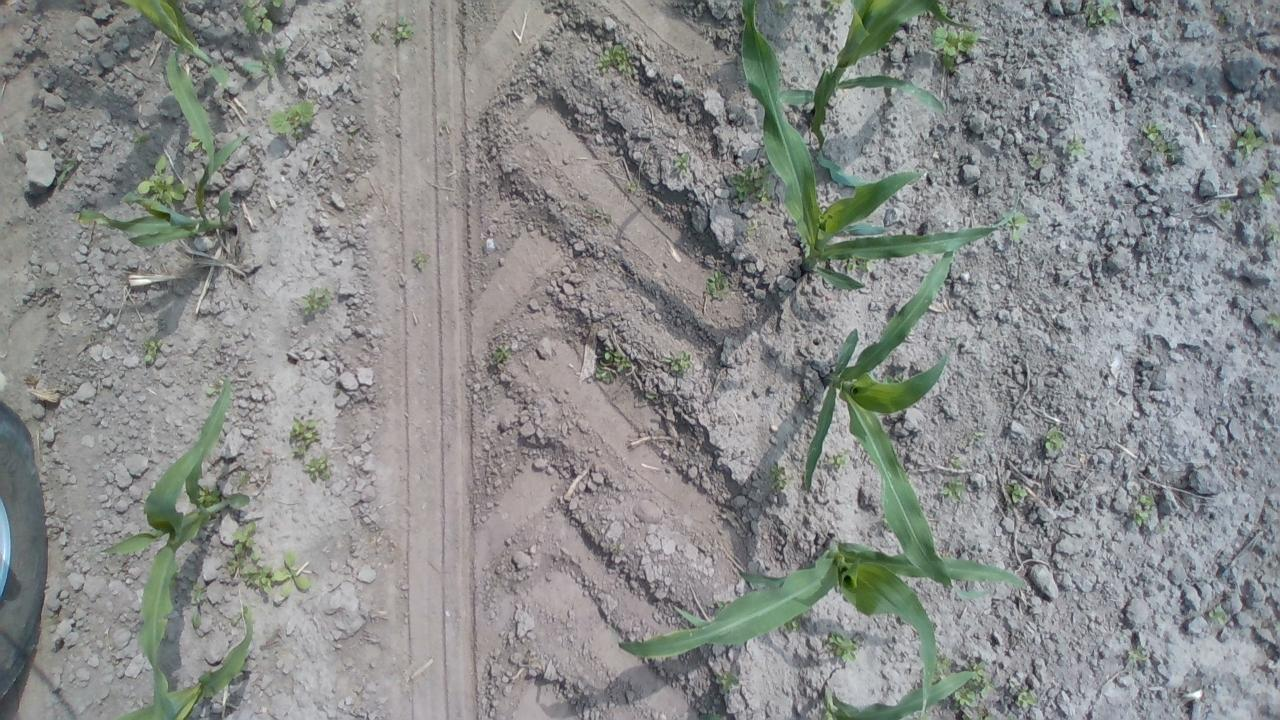Maize: (741, 0, 1022, 293), (614, 530, 1029, 719), (804, 244, 994, 598), (96, 378, 250, 720), (782, 0, 979, 188), (72, 132, 252, 248), (122, 0, 234, 185), (104, 608, 254, 720), (824, 659, 990, 720), (699, 714, 720, 720)
Weeds: (224, 517, 272, 595), (137, 155, 189, 202), (728, 160, 774, 207), (268, 98, 318, 140), (934, 26, 981, 70), (273, 548, 311, 598), (1142, 119, 1182, 157), (590, 345, 630, 383), (594, 42, 634, 78), (243, 47, 291, 77), (290, 414, 322, 458), (827, 630, 865, 664), (298, 286, 334, 321), (1082, 0, 1122, 31), (1128, 490, 1158, 529), (52, 156, 80, 192), (1001, 210, 1030, 244), (1255, 169, 1280, 208), (664, 348, 698, 376), (244, 0, 272, 34), (1236, 122, 1265, 154), (701, 271, 730, 302), (766, 462, 796, 491), (302, 455, 330, 485), (1011, 680, 1038, 709), (716, 668, 742, 696), (938, 479, 968, 503), (140, 334, 163, 364), (1044, 424, 1068, 452), (673, 152, 698, 178), (192, 584, 205, 634), (1002, 483, 1027, 508), (1124, 644, 1150, 668), (845, 255, 879, 273), (228, 604, 252, 627), (1206, 604, 1230, 626), (198, 486, 220, 508), (394, 15, 412, 40), (586, 208, 614, 223), (829, 448, 851, 467), (950, 452, 967, 476), (412, 248, 429, 272), (1065, 138, 1085, 158), (954, 690, 976, 708), (971, 658, 988, 681), (822, 0, 846, 16), (491, 344, 510, 364), (186, 132, 204, 153), (978, 682, 996, 702), (131, 132, 149, 150), (773, 0, 793, 16), (1267, 221, 1280, 245), (624, 176, 640, 194), (1215, 202, 1234, 217), (1028, 154, 1044, 170), (936, 658, 954, 672), (784, 618, 802, 632), (206, 380, 220, 396), (1266, 312, 1280, 326), (238, 472, 250, 487), (970, 432, 989, 441), (609, 541, 622, 554), (645, 389, 659, 401), (370, 31, 382, 45), (800, 395, 815, 406), (746, 224, 758, 237), (710, 601, 724, 611), (940, 2, 949, 16), (1158, 524, 1168, 534), (272, 0, 282, 8), (439, 120, 447, 130), (1217, 16, 1226, 24)
